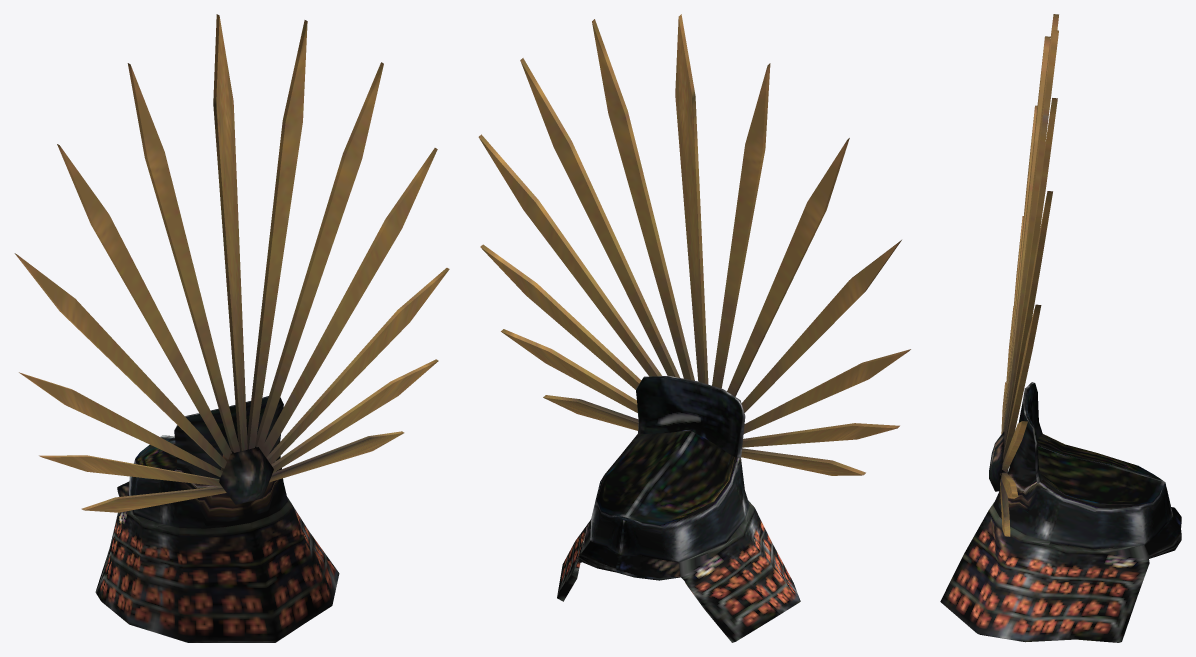
The model's file is KABUTO.ICO.obj.
The picture shows the model from 3 angles, left to right: view 1: azimuth 30°, elevation 25°; view 2: azimuth 150°, elevation 25°; view 3: azimuth 270°, elevation 25°; orthographic projection. The views are drawn at different scales.
Bounding box in the file's own units: 3.8 × 4.97 × 1.89.
Materials: 1 (1 with a texture image).
